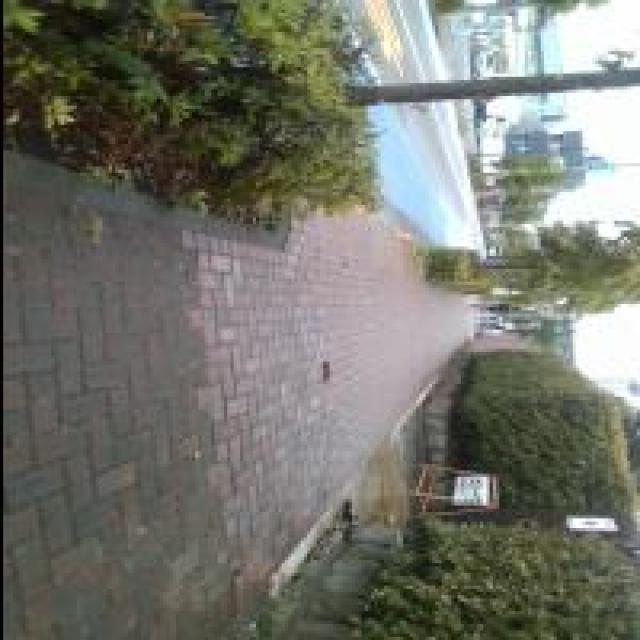Obstacle: (0, 0, 639, 229), (424, 247, 493, 289)
Road: (368, 101, 483, 253), (342, 0, 452, 80)
Sidewalk: (6, 155, 462, 639)
